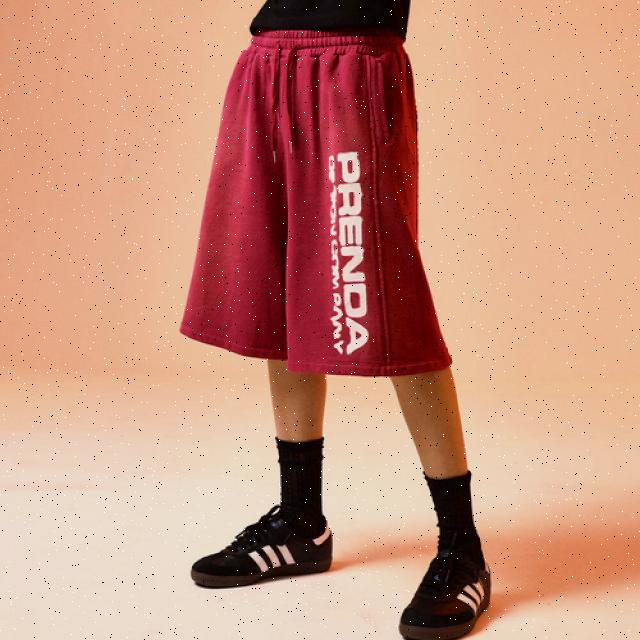Blouse_deep: (188, 32, 440, 364)
